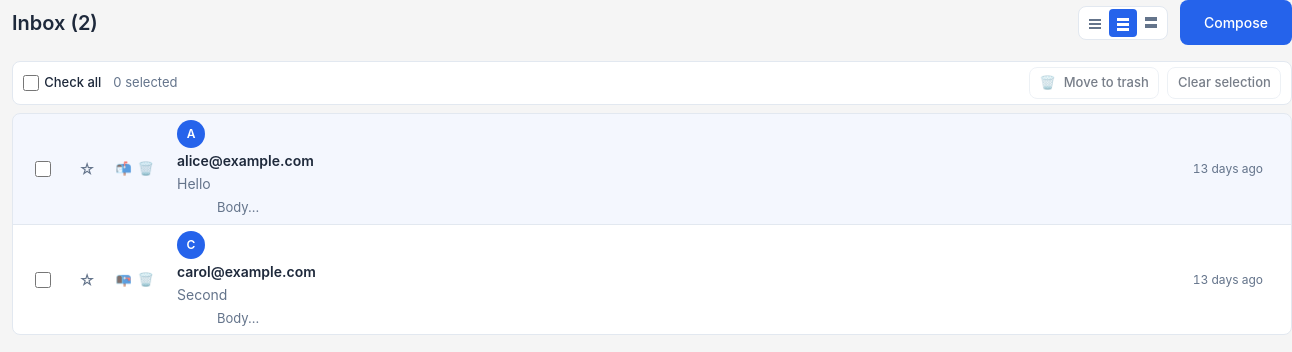
Test: mailbox selection and message open zone › checks and unchecks every visible email from the selection bar
Click the checkbox with class "select-all-checkbox": [31, 83] box [23,75,39,91]
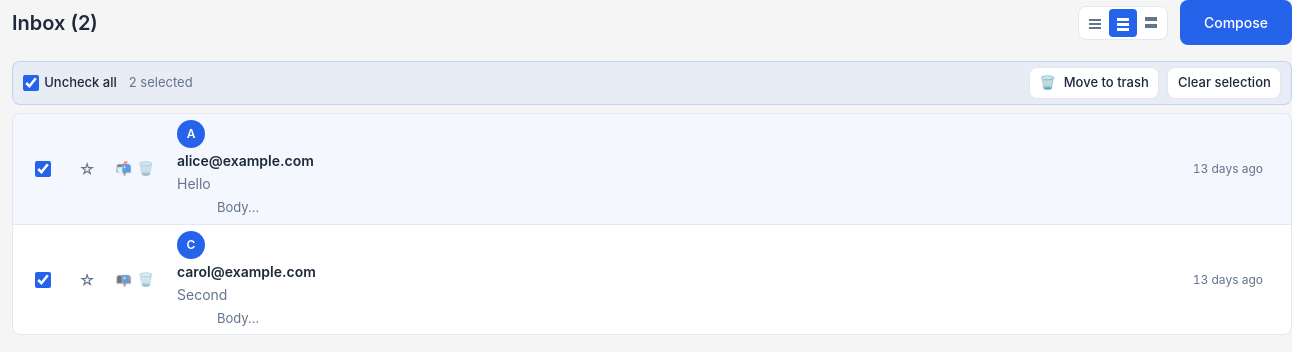
Now the checkbox with class "select-all-checkbox" is checked
Now the text "2 selected" is shown, box [129,73,193,93]
Click the checkbox with class "select-all-checkbox": [31, 83] box [23,75,39,91]
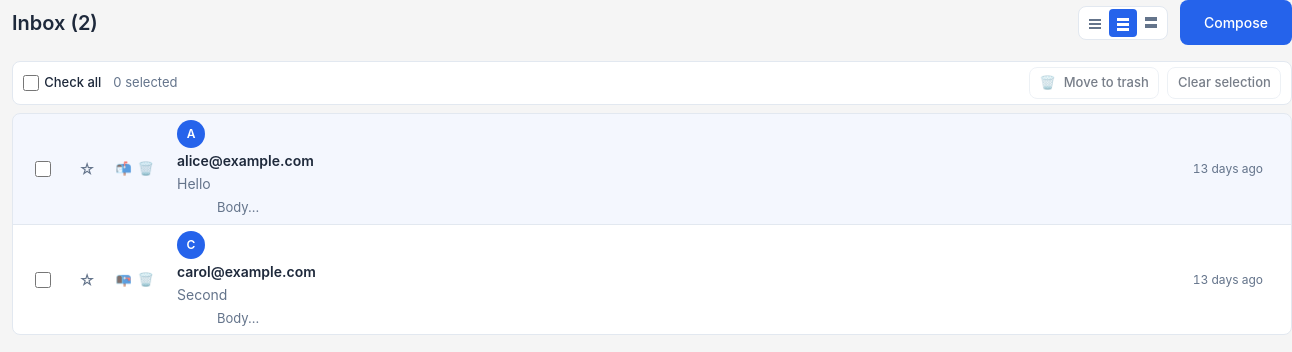
Now the checkbox with class "select-all-checkbox" is not checked, box [23,75,39,91]
Now the text "0 selected" is shown, box [113,73,178,93]
